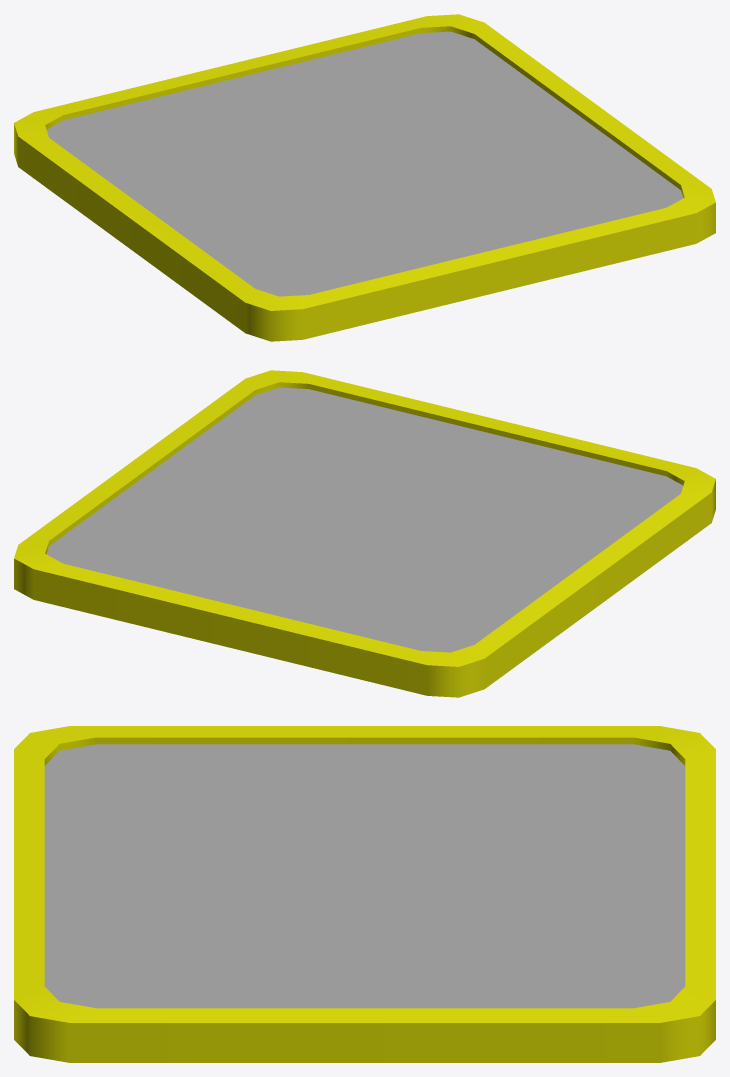
Rendered from Roof3ALOD1.fbx.
3 renders of one model, top to bottom at view 1: azimuth 30°, elevation 25°; view 2: azimuth 150°, elevation 25°; view 3: azimuth 270°, elevation 25°, orthographic. The views are drawn at different scales.
Parts seen in each view (by area): view 1: Roof3A_LOD1; view 2: Roof3A_LOD1; view 3: Roof3A_LOD1.
Part boxes in pixels (bbox=[...]): Roof3A_LOD1: bbox=[14, 14, 715, 341]; Roof3A_LOD1: bbox=[14, 370, 715, 697]; Roof3A_LOD1: bbox=[14, 726, 715, 1062].
Size of the model in its own units: 518 by 35.22 by 518.
